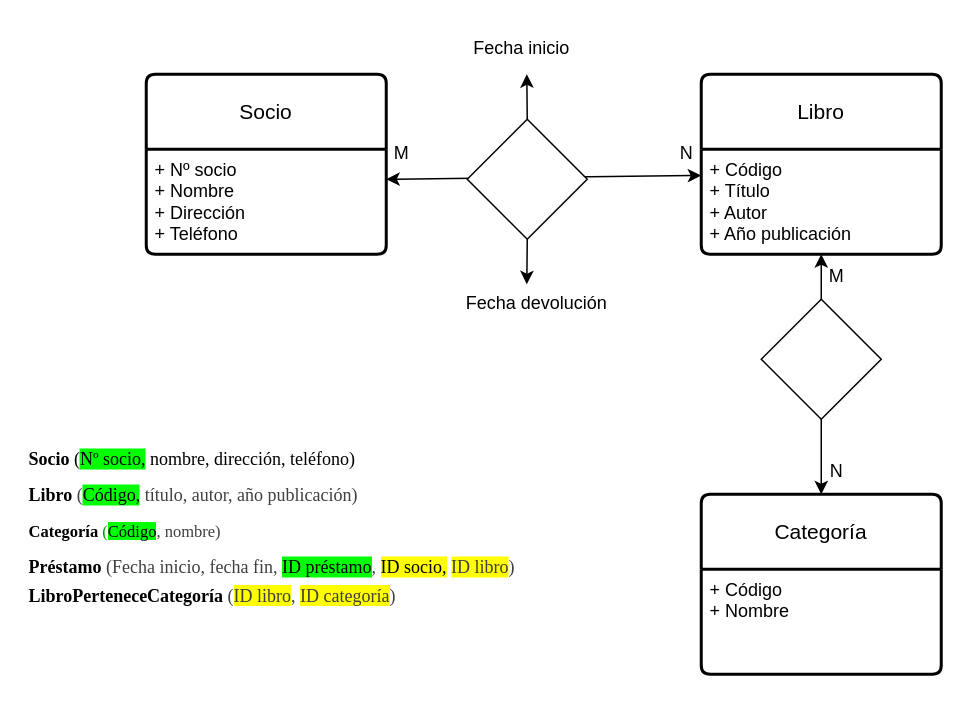
Some shapes in this 968 by 701 pixel diagram are drawn without their labels. Here are the shapes that lost their labels. From the top down, the centre of each, then its label:
At (526,178): "Prestado".
At (820,358): "Pertenece".
